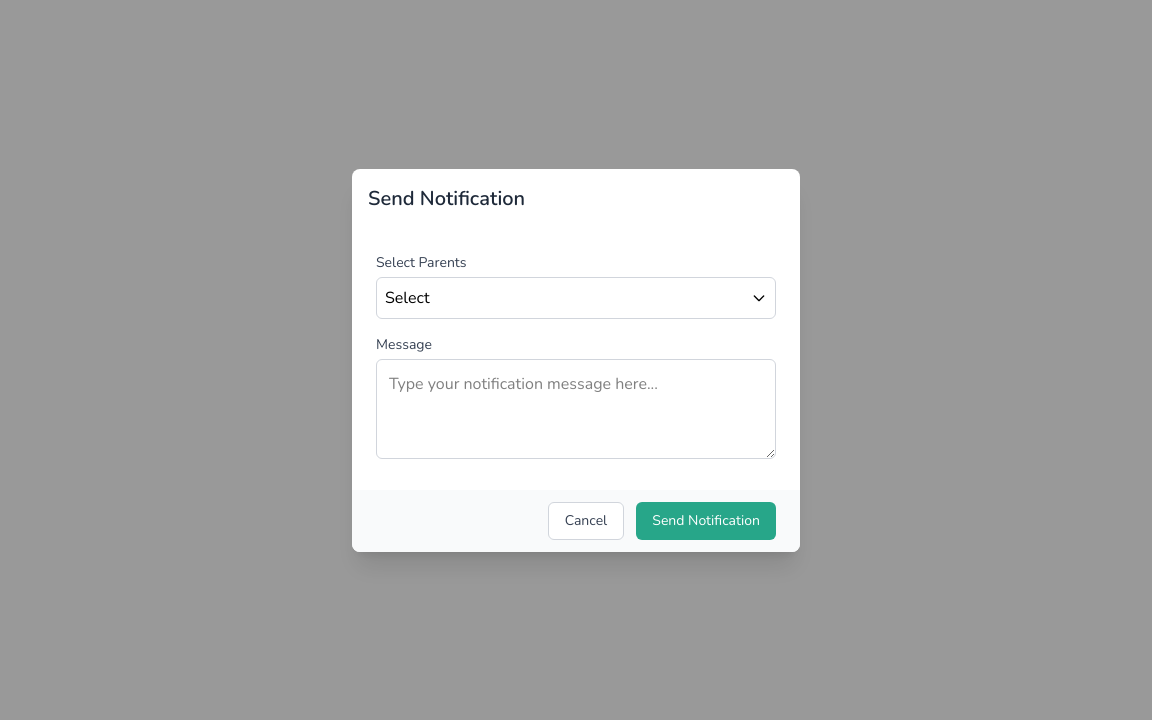
Test: SendNotificationModal › renders and fetches parents when opened
Expected: the heading "Send Notification" is shown, [368,184,525,212]
Click the text "Select" at (407, 298), box [385,286,430,310]
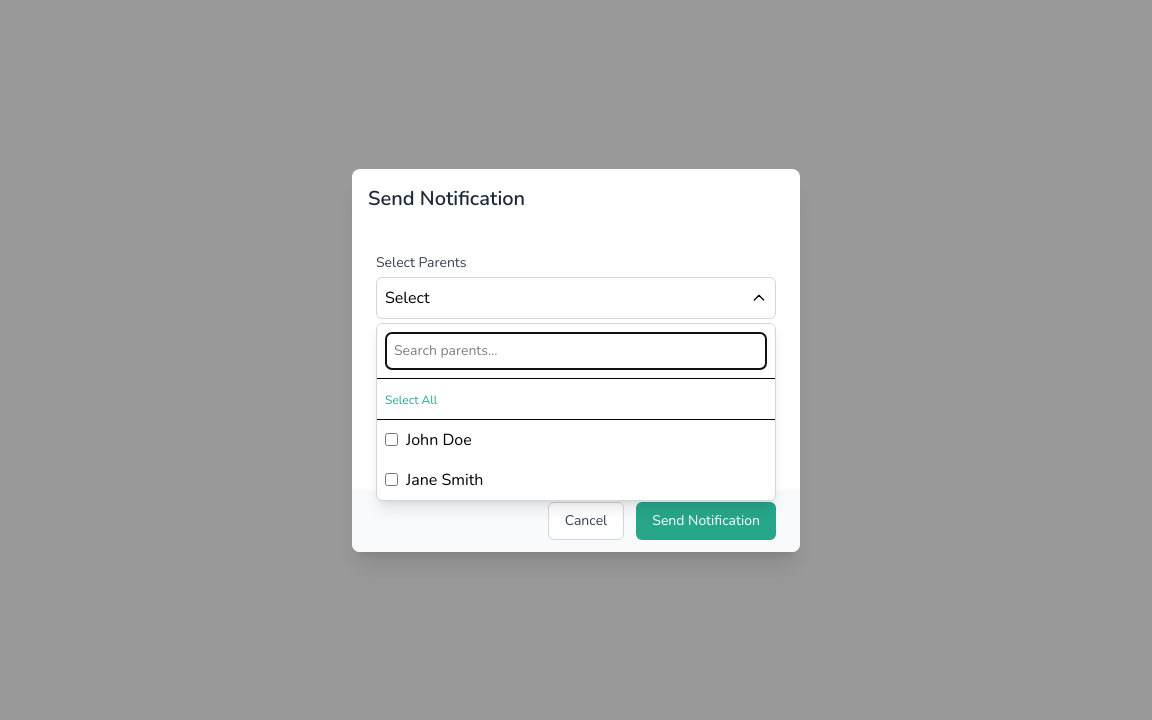
Now the text "John Doe" is shown, box [406,428,472,452]
Now the text "Jane Smith" is shown, box [406,468,484,492]
